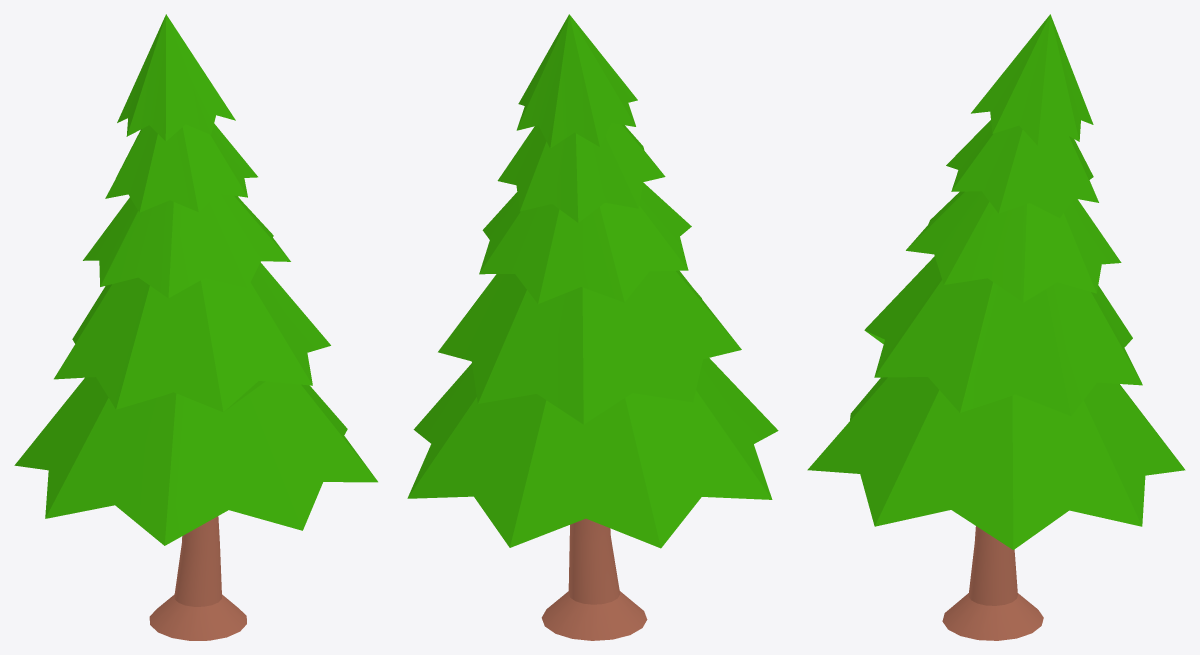
Rendered from object_150_lev1.glb.
3 renders of one model, left to right at view 1: azimuth 30°, elevation 25°; view 2: azimuth 150°, elevation 25°; view 3: azimuth 270°, elevation 25°, orthographic. The views are drawn at different scales.
Parts seen in each view (by area): view 1: object_150_lev1; view 2: object_150_lev1; view 3: object_150_lev1.
Boxes of the visible parts, x1,y1,x2,y2 form: object_150_lev1: [14, 14, 377, 640]; object_150_lev1: [407, 14, 778, 640]; object_150_lev1: [807, 14, 1185, 640].
Size of the model in its own units: 0.7221 by 1.27 by 0.7214.
1 material, 1 textured.
